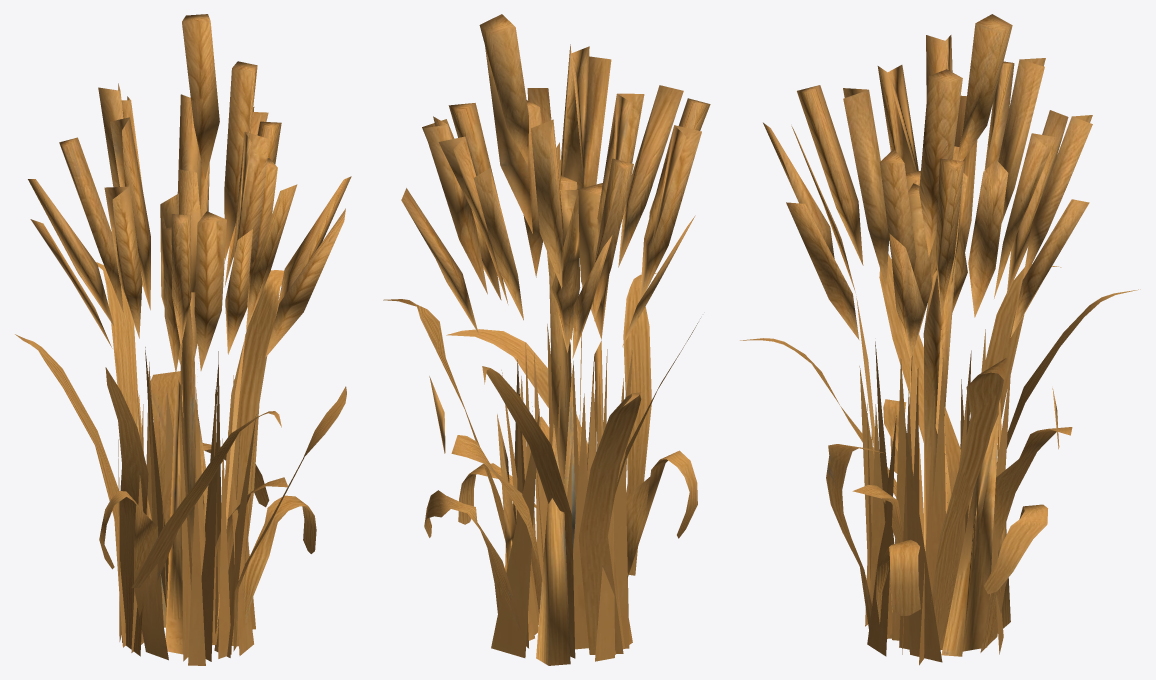
Rendered from fields-wheat.glb.
The picture shows the model from 3 angles, left to right: view 1: azimuth 30°, elevation 25°; view 2: azimuth 150°, elevation 25°; view 3: azimuth 270°, elevation 25°; orthographic projection. The views are drawn at different scales.
Bounding box in the file's own units: 0.481 × 0.9521 × 0.5483.
Materials: 1 (1 with a texture image).
